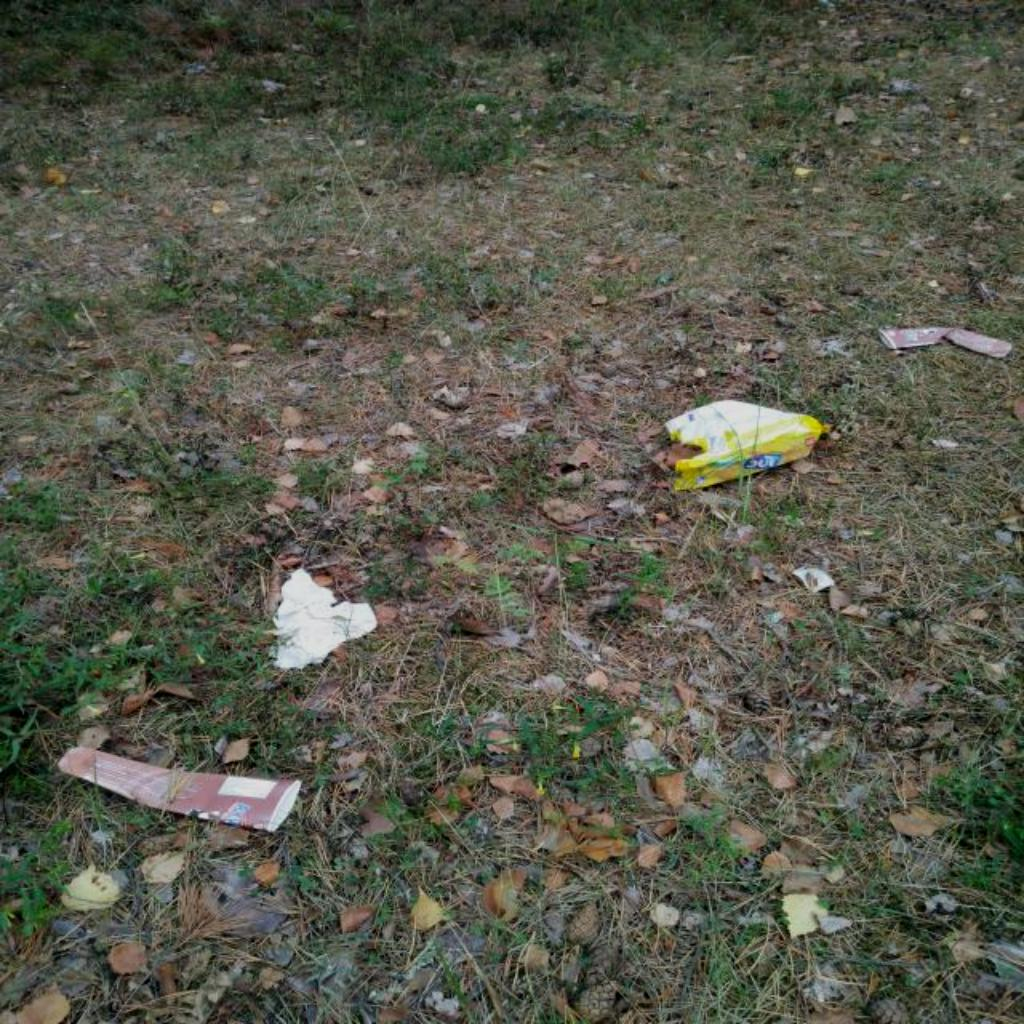garbage: (46, 746, 301, 831), (657, 398, 815, 487), (880, 322, 1022, 361)
